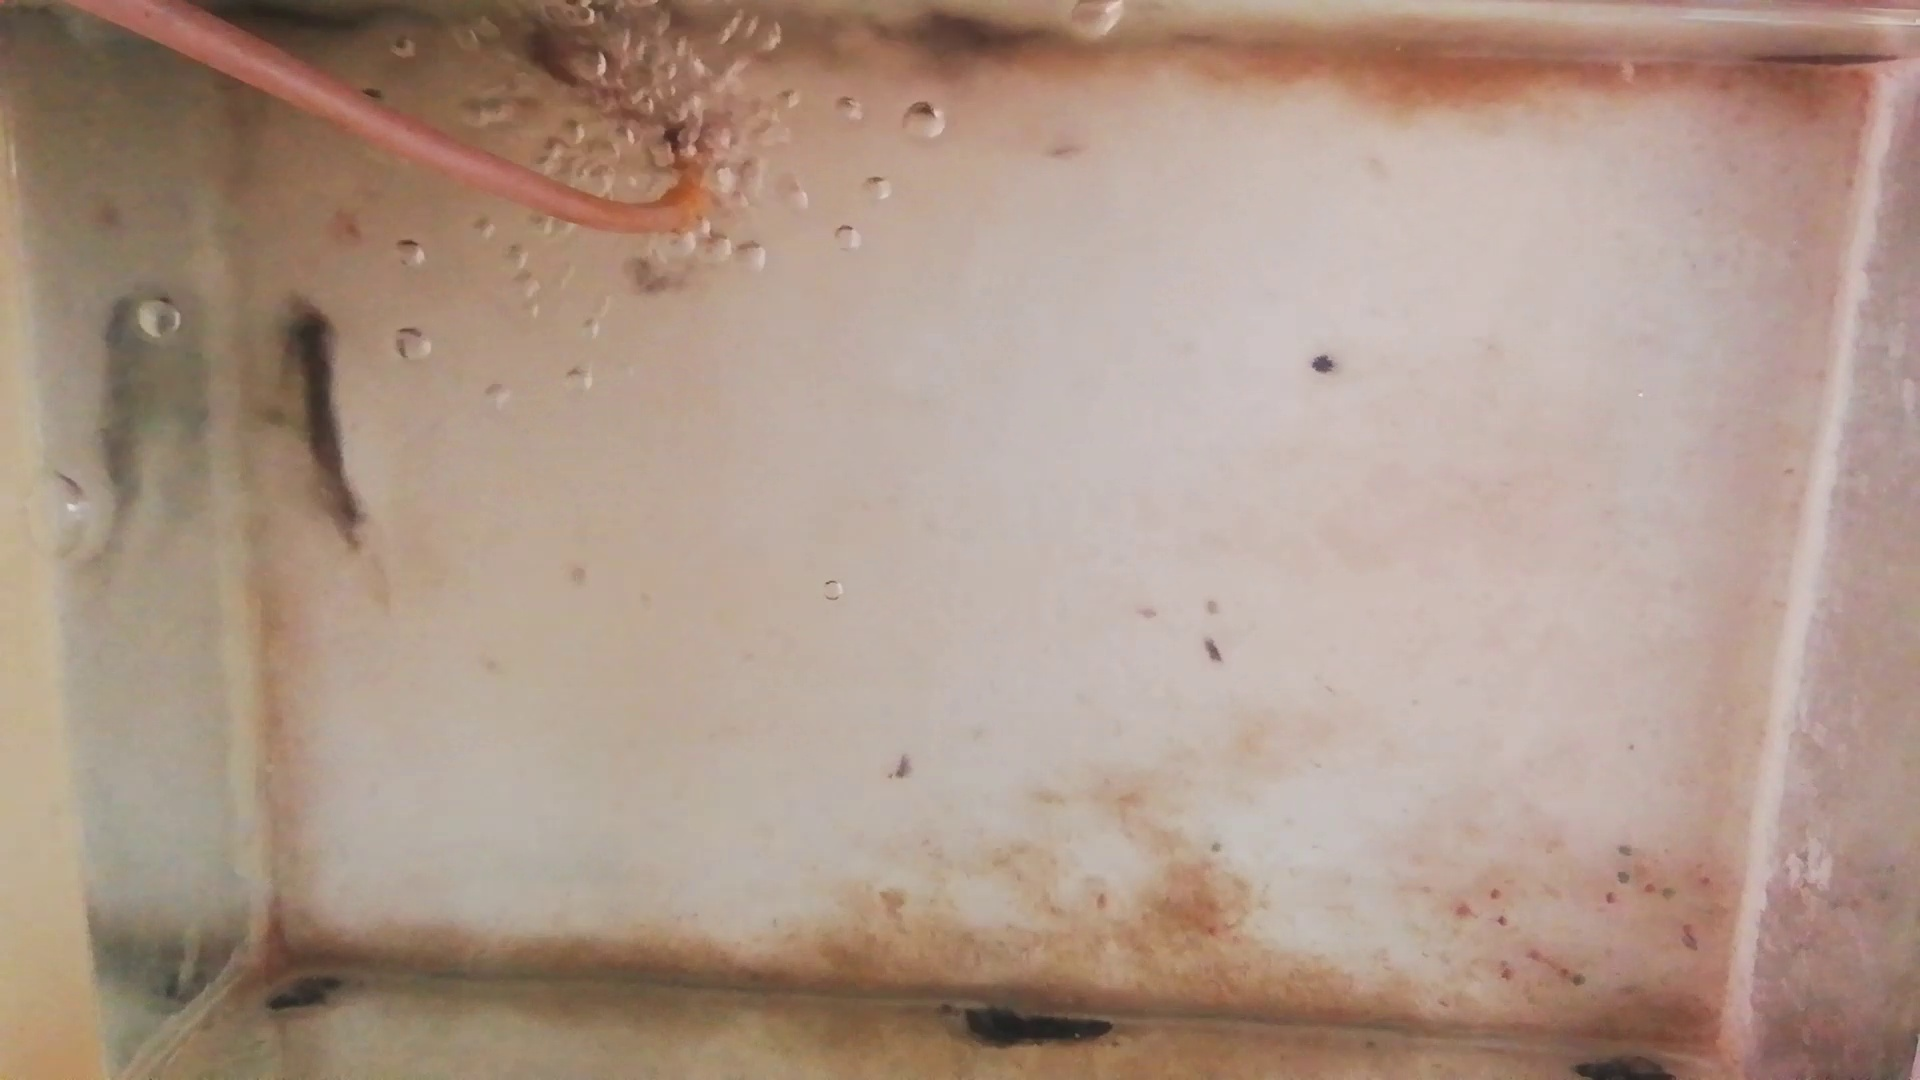fish: (285, 297, 357, 539), (517, 17, 651, 112)
